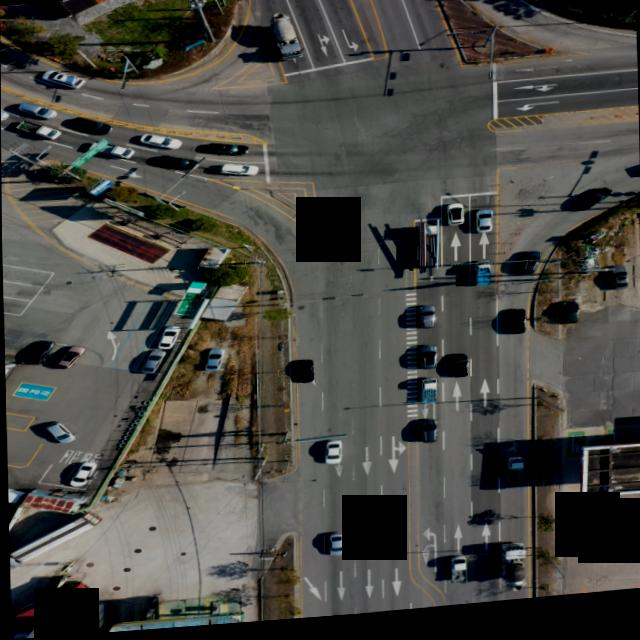car: (14, 340, 57, 367), (40, 69, 85, 93), (143, 157, 193, 177), (138, 133, 182, 155), (14, 101, 56, 123), (194, 144, 239, 161), (70, 116, 106, 137), (54, 347, 83, 371), (44, 421, 73, 444), (66, 463, 93, 487), (571, 199, 603, 218), (138, 352, 164, 375), (156, 329, 180, 353), (219, 165, 257, 180), (506, 314, 526, 342), (445, 362, 465, 387), (520, 260, 540, 285), (202, 351, 222, 374), (321, 444, 339, 469), (417, 425, 435, 450), (417, 351, 435, 376), (294, 364, 312, 389), (444, 210, 463, 233), (559, 309, 578, 332), (416, 312, 434, 336), (380, 527, 397, 551), (475, 216, 492, 239), (326, 538, 342, 561), (609, 280, 625, 300), (1, 104, 11, 121)
medium_truck: (9, 516, 101, 566), (266, 18, 303, 67), (411, 230, 440, 282), (496, 553, 524, 600)
small_truck: (84, 141, 137, 165), (16, 120, 62, 145), (503, 463, 522, 490), (447, 563, 466, 590), (418, 385, 436, 411), (471, 269, 489, 293)
